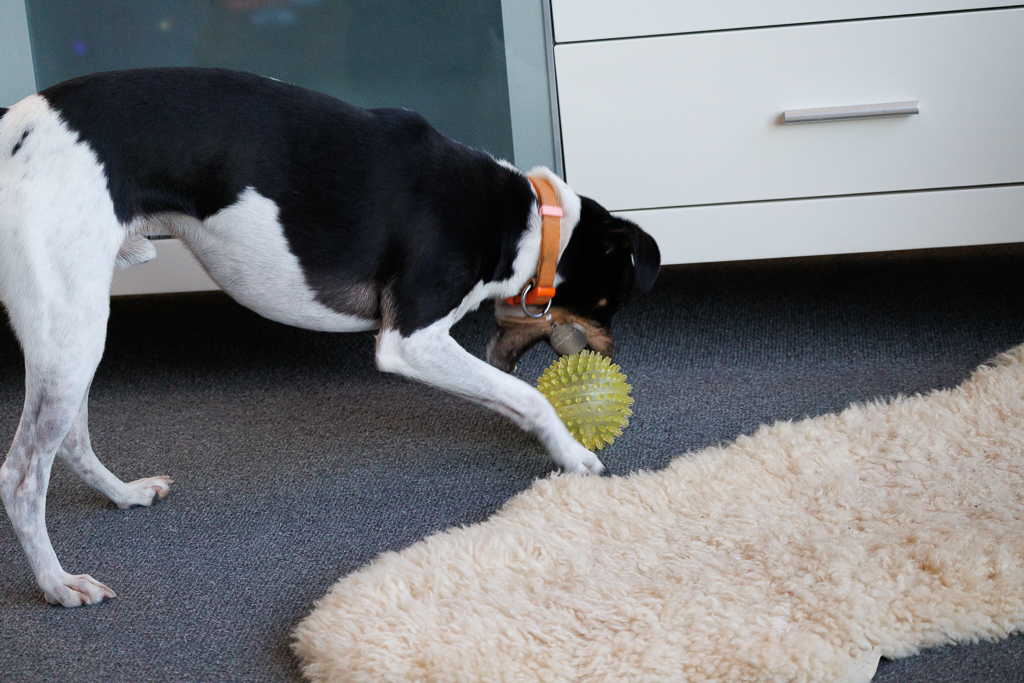Dog: (0, 59, 670, 607)
